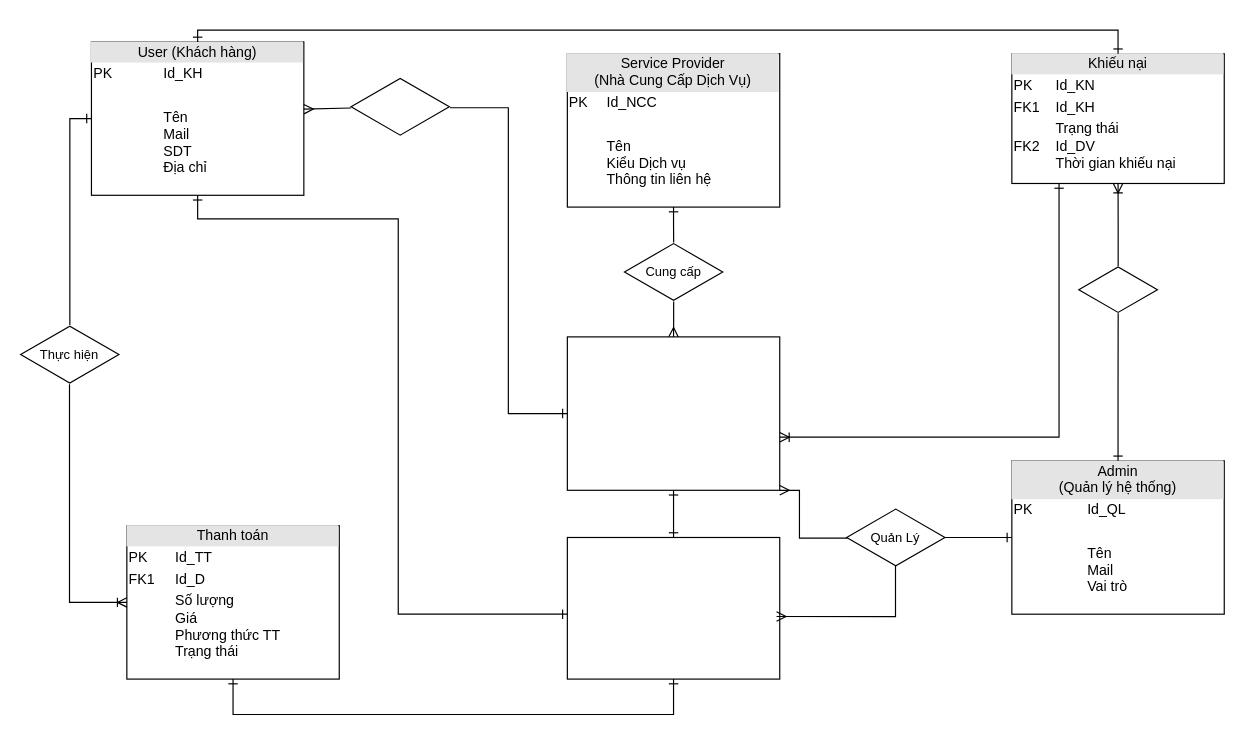
Some shapes in this 1245 by 746 pixel diagram are drawn without their labels. Each missing label, with the centre of its shape:
"Booking (Đặt chỗ) PK Id_D FK1 Id_KH FK2 Trạng thái Id_DV Thời gian đặt chỗ" goes at (x=673, y=607).
"Service (Dịch Vụ) PK Id_DV FK1 Id_NCC Tên DV Giá Thời gian Vị trí" goes at (x=673, y=413).
"Xử Lý" goes at (x=1117, y=289).
"Đặt" goes at (x=399, y=106).
